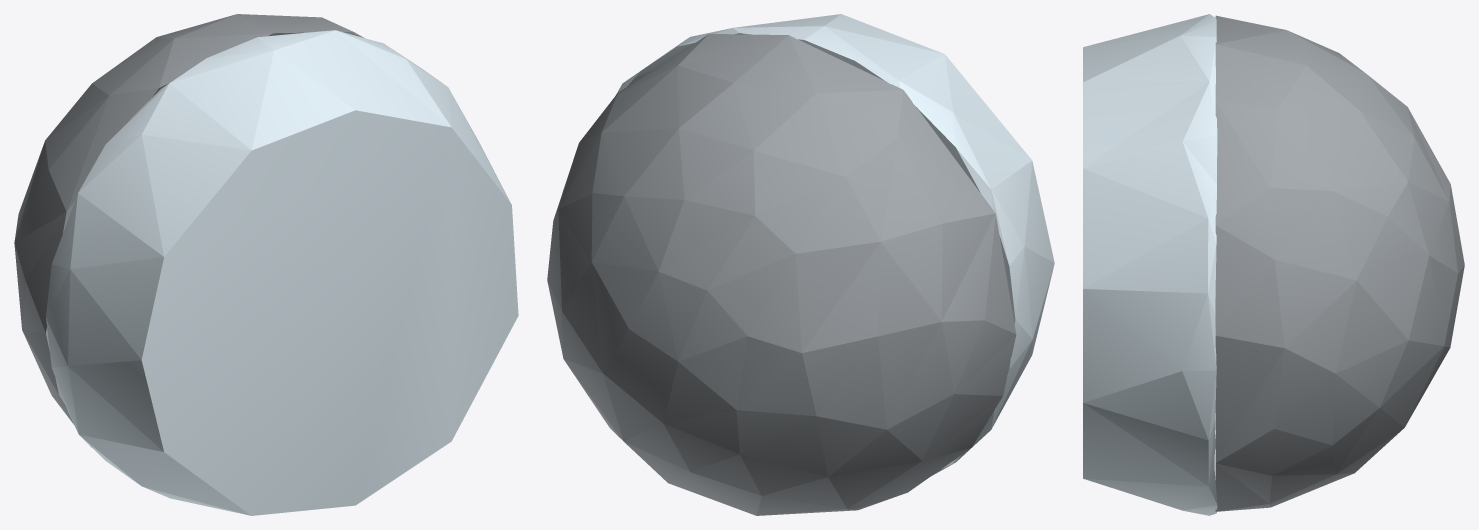
Rendered from nub.fbx.
3 renders of one model, left to right at view 1: azimuth 30°, elevation 25°; view 2: azimuth 150°, elevation 25°; view 3: azimuth 270°, elevation 25°, orthographic.
Parts seen in each view (by area): view 1: Bumper; view 2: Bumper; view 3: Bumper.
Part boxes in pixels (x1=…): Bumper: x1=14, y1=14, x2=518, y2=515; Bumper: x1=547, y1=14, x2=1054, y2=515; Bumper: x1=1083, y1=14, x2=1464, y2=515.
Size of the model in its own units: 0.0639 by 0.0641 by 0.049.
